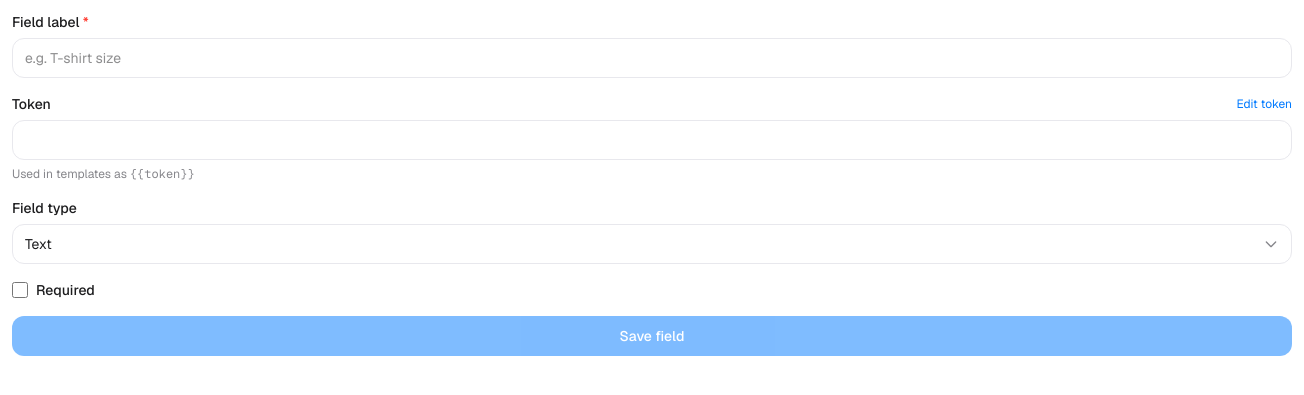
Scenario: FieldForm › shows validation error for invalid token
The image size is (1304, 395).
Type "Test" into the field labelled "Field label *" at (652, 58), box [12, 38, 1292, 78]
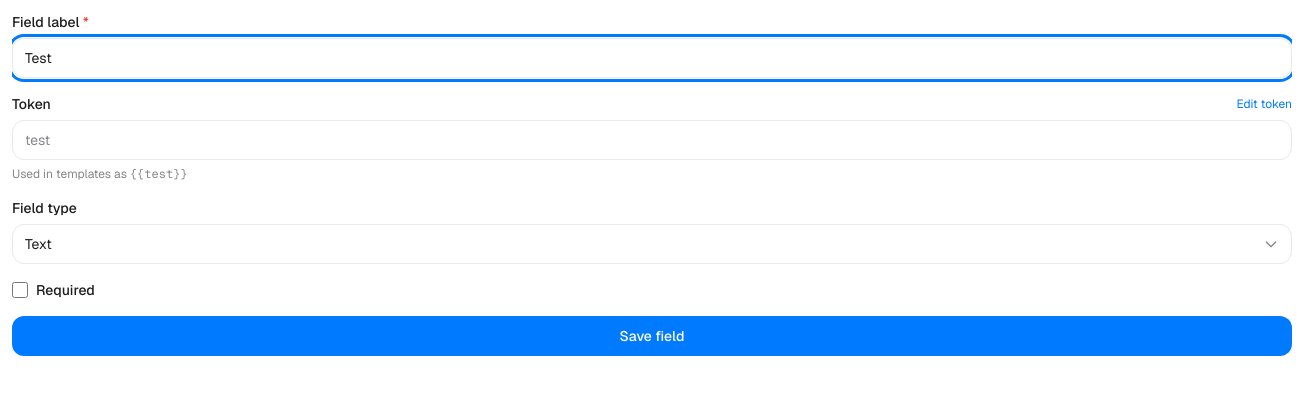
Click the button "Edit token" at (1264, 104), box [1237, 96, 1292, 112]
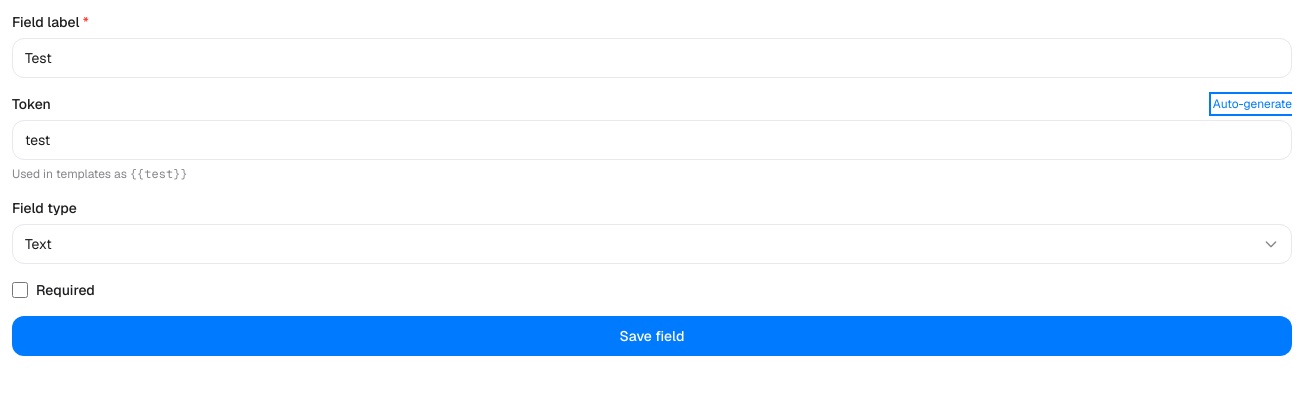
Replace the text in the field labelled "Token" with "123invalid" at (652, 140), box [12, 120, 1292, 160]
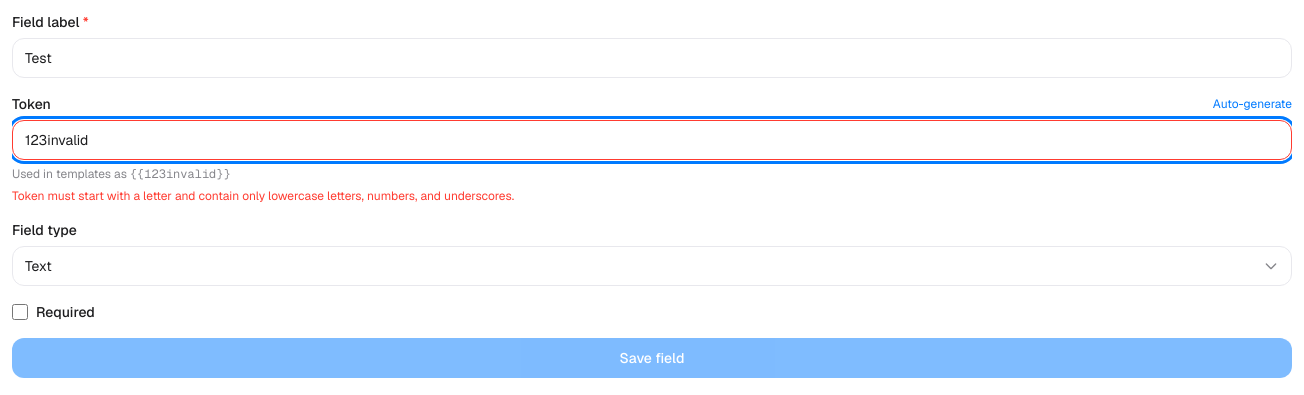
Expected: the text "must start with a letter" is shown, [12, 188, 514, 204]
